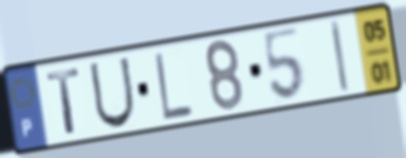5: (259, 24, 309, 105)
8: (204, 37, 245, 115)
I: (327, 17, 352, 96)
L: (152, 50, 196, 123)
T: (43, 65, 83, 137)
U: (86, 55, 138, 132)
